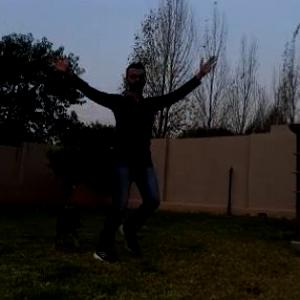takeoff: (37, 61, 186, 265)
